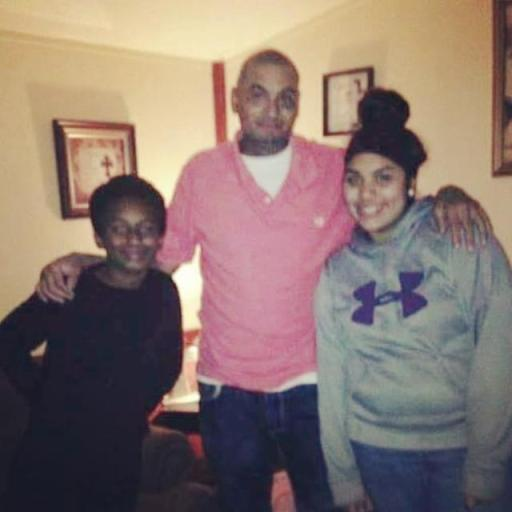Under Armour: (348, 267, 430, 325)
